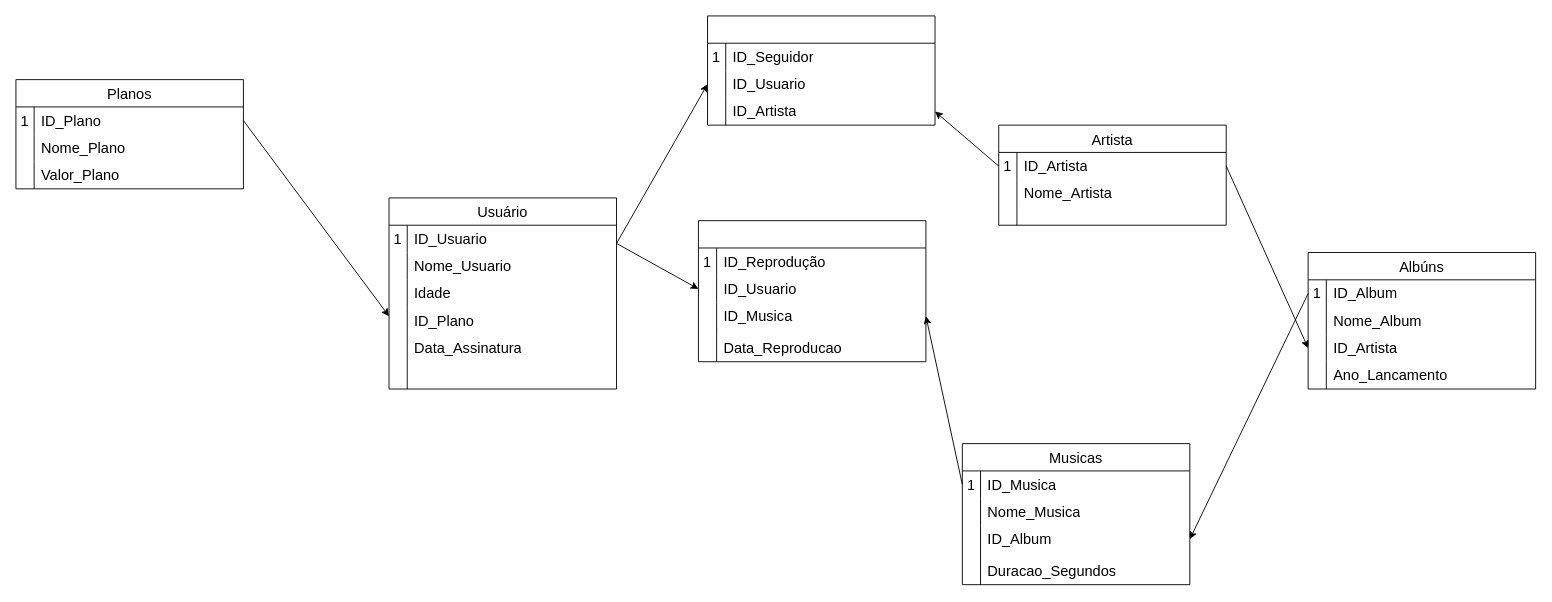
Some shapes in this 1552 by 602 pixel diagram are drawn without their labels. Here are the shapes that lost their labels. From the top down, the box of each, then its label:
(707, 15, 935, 125): Seguindo Artista
(698, 220, 926, 362): Histórico de Reprodução
